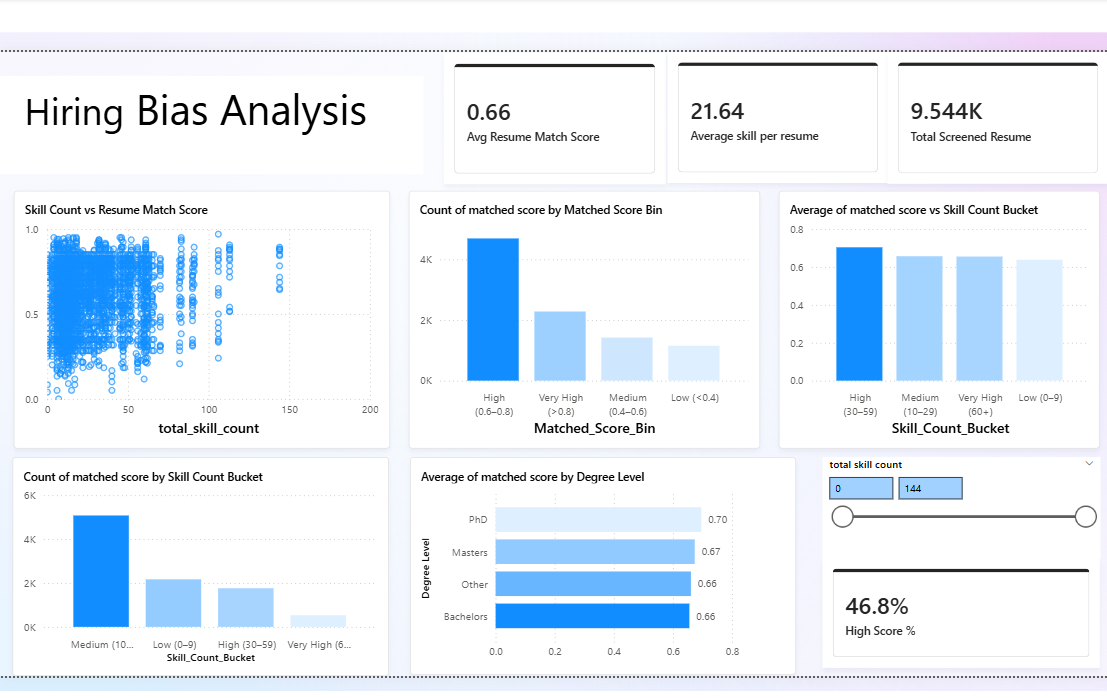

What the dashboard file says about the page in this screenshot:
{"tool":"powerbi","page":{"name":"Screening _Overniew","canvas":[1280,720],"ordinal":0},"visuals":[{"type":"cardVisual","fields":{"Data":["Avg(candidate_bias_features.matched_score)"]},"box":[512.2,1.4,256.8,151.5],"z":0},{"type":"cardVisual","fields":{"Data":["Avg(candidate_bias_features.total_skill_count)"]},"box":[770.4,0,255.4,151.5],"z":1000},{"type":"cardVisual","fields":{"Data":["CountNonNull(candidate_bias_features.matched_score)"]},"box":[1024.4,0,255.4,152.9],"z":2000},{"type":"scatterChart","title":"Skill Count vs Resume Match Score","fields":{"X":["candidate_bias_features.total_skill_count"],"Y":["candidate_bias_features.matched_score"]},"box":[15.9,160.1,434.3,297.2],"z":3000},{"type":"clusteredColumnChart","title":"Count of matched score by Matched Score Bin","fields":{"Y":["CountNonNull(candidate_bias_features.matched_score)"],"Category":["candidate_bias_features.Matched Score Bin"]},"box":[471.8,160.1,405.4,297.2],"z":4000},{"type":"slicer","fields":{"Values":["candidate_bias_features.total_skill_count"]},"box":[949.3,467.5,320.3,116.9],"z":5000},{"type":"columnChart","title":"Average of matched score vs Skill Count Bucket","fields":{"Y":["Avg(candidate_bias_features.matched_score)"],"Category":["candidate_bias_features.Skill_Count_Bucket"]},"box":[898.8,160.1,370.8,297.2],"z":6000},{"type":"textbox","box":[0,27.4,489.1,114],"z":7000},{"type":"clusteredColumnChart","title":"Count of matched score by Skill Count Bucket","fields":{"Category":["candidate_bias_features.Skill_Count_Bucket"],"Y":["CountNonNull(candidate_bias_features.matched_score)"]},"box":[14.4,467.5,434.3,252.5],"z":8000},{"type":"barChart","title":"Average of matched score by Degree Level","fields":{"Category":["candidate_bias_features.Degree Level"],"Y":["Avg(candidate_bias_features.matched_score)"]},"box":[473.2,467.5,445.8,251],"z":9000},{"type":"cardVisual","fields":{"Data":["candidate_bias_features.High Score %"]},"box":[949.3,584.3,320.3,127],"z":10000}]}

Visuals, with their boxes on the page's 1280x720 design canvas (x1, y1, x2, y2). These are canvas units, not pixel positions in the 1107x698 screenshot, which may show the page scaled, cropped or inside an application window:
cardVisual - Avg(candidate_bias_features.matched_score): x1=512 y1=1 x2=769 y2=153
cardVisual - Avg(candidate_bias_features.total_skill_count): x1=770 y1=0 x2=1026 y2=152
cardVisual - CountNonNull(candidate_bias_features.matched_score): x1=1024 y1=0 x2=1280 y2=153
"Skill Count vs Resume Match Score" scatterChart: x1=16 y1=160 x2=450 y2=457
"Count of matched score by Matched Score Bin" clusteredColumnChart: x1=472 y1=160 x2=877 y2=457
slicer - candidate_bias_features.total_skill_count: x1=949 y1=468 x2=1270 y2=584
"Average of matched score vs Skill Count Bucket" columnChart: x1=899 y1=160 x2=1270 y2=457
textbox: x1=0 y1=27 x2=489 y2=141
"Count of matched score by Skill Count Bucket" clusteredColumnChart: x1=14 y1=468 x2=449 y2=720
"Average of matched score by Degree Level" barChart: x1=473 y1=468 x2=919 y2=718
cardVisual - candidate_bias_features.High Score %: x1=949 y1=584 x2=1270 y2=711
